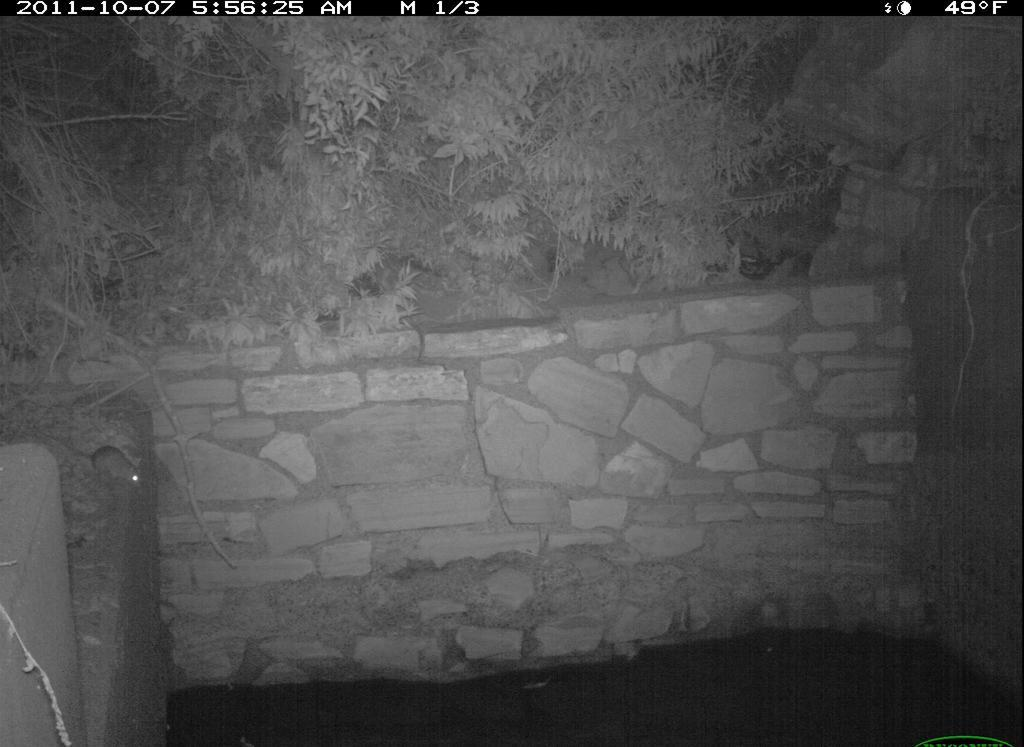rodent: (75, 429, 158, 501)
